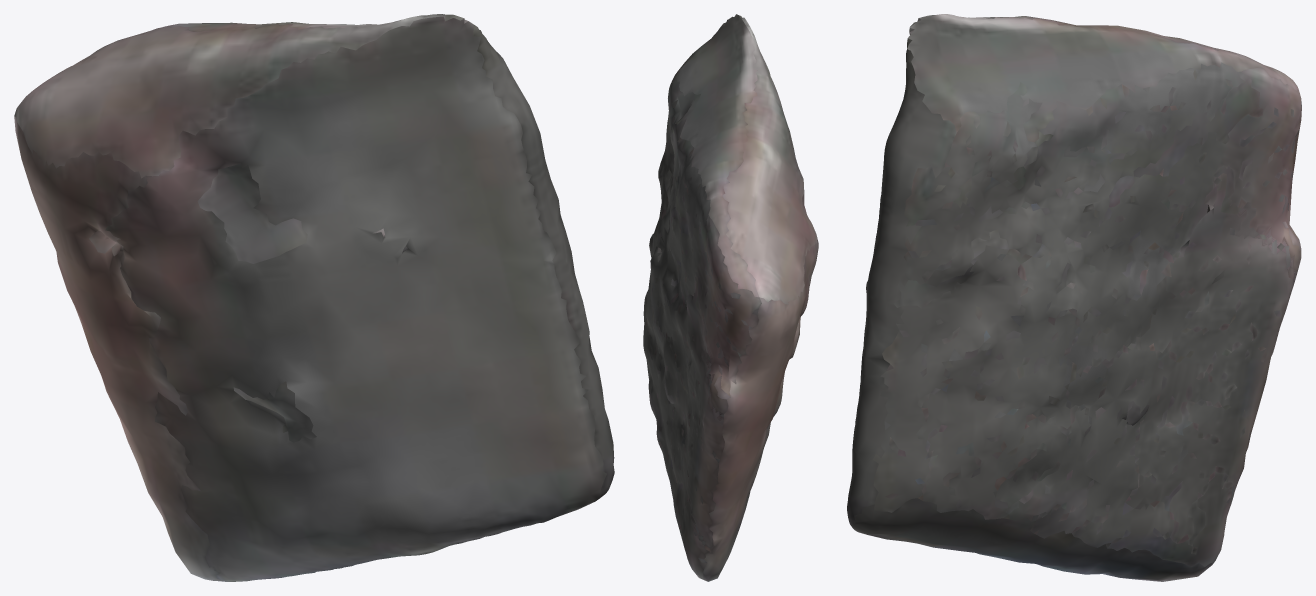
File: 0_wall_socket.glb
3 views of the same model, side by side, from view 1: azimuth 30°, elevation 25°; view 2: azimuth 150°, elevation 25°; view 3: azimuth 270°, elevation 25° (orthographic). The views are drawn at different scales.
Visible parts, largest first — view 1: 0_wall_socket; view 2: 0_wall_socket; view 3: 0_wall_socket.
Part boxes in pixels (x1=…): 0_wall_socket: x1=14, y1=14, x2=614, y2=581; 0_wall_socket: x1=643, y1=14, x2=818, y2=581; 0_wall_socket: x1=847, y1=14, x2=1301, y2=581.
Size of the model in its own units: 0.0657 by 0.1065 by 0.0728.
Materials: 1 (1 with a texture image).
